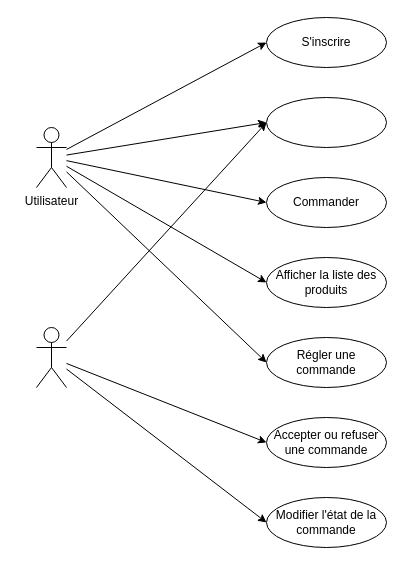
Image size: 404x565. Some labels were removed from this diagram. The box of each missing label's shape, as (x1, y1, x2, y2) in pixels:
Restaurateur: (36, 326, 66, 388)
Se connecter: (266, 96, 386, 148)
